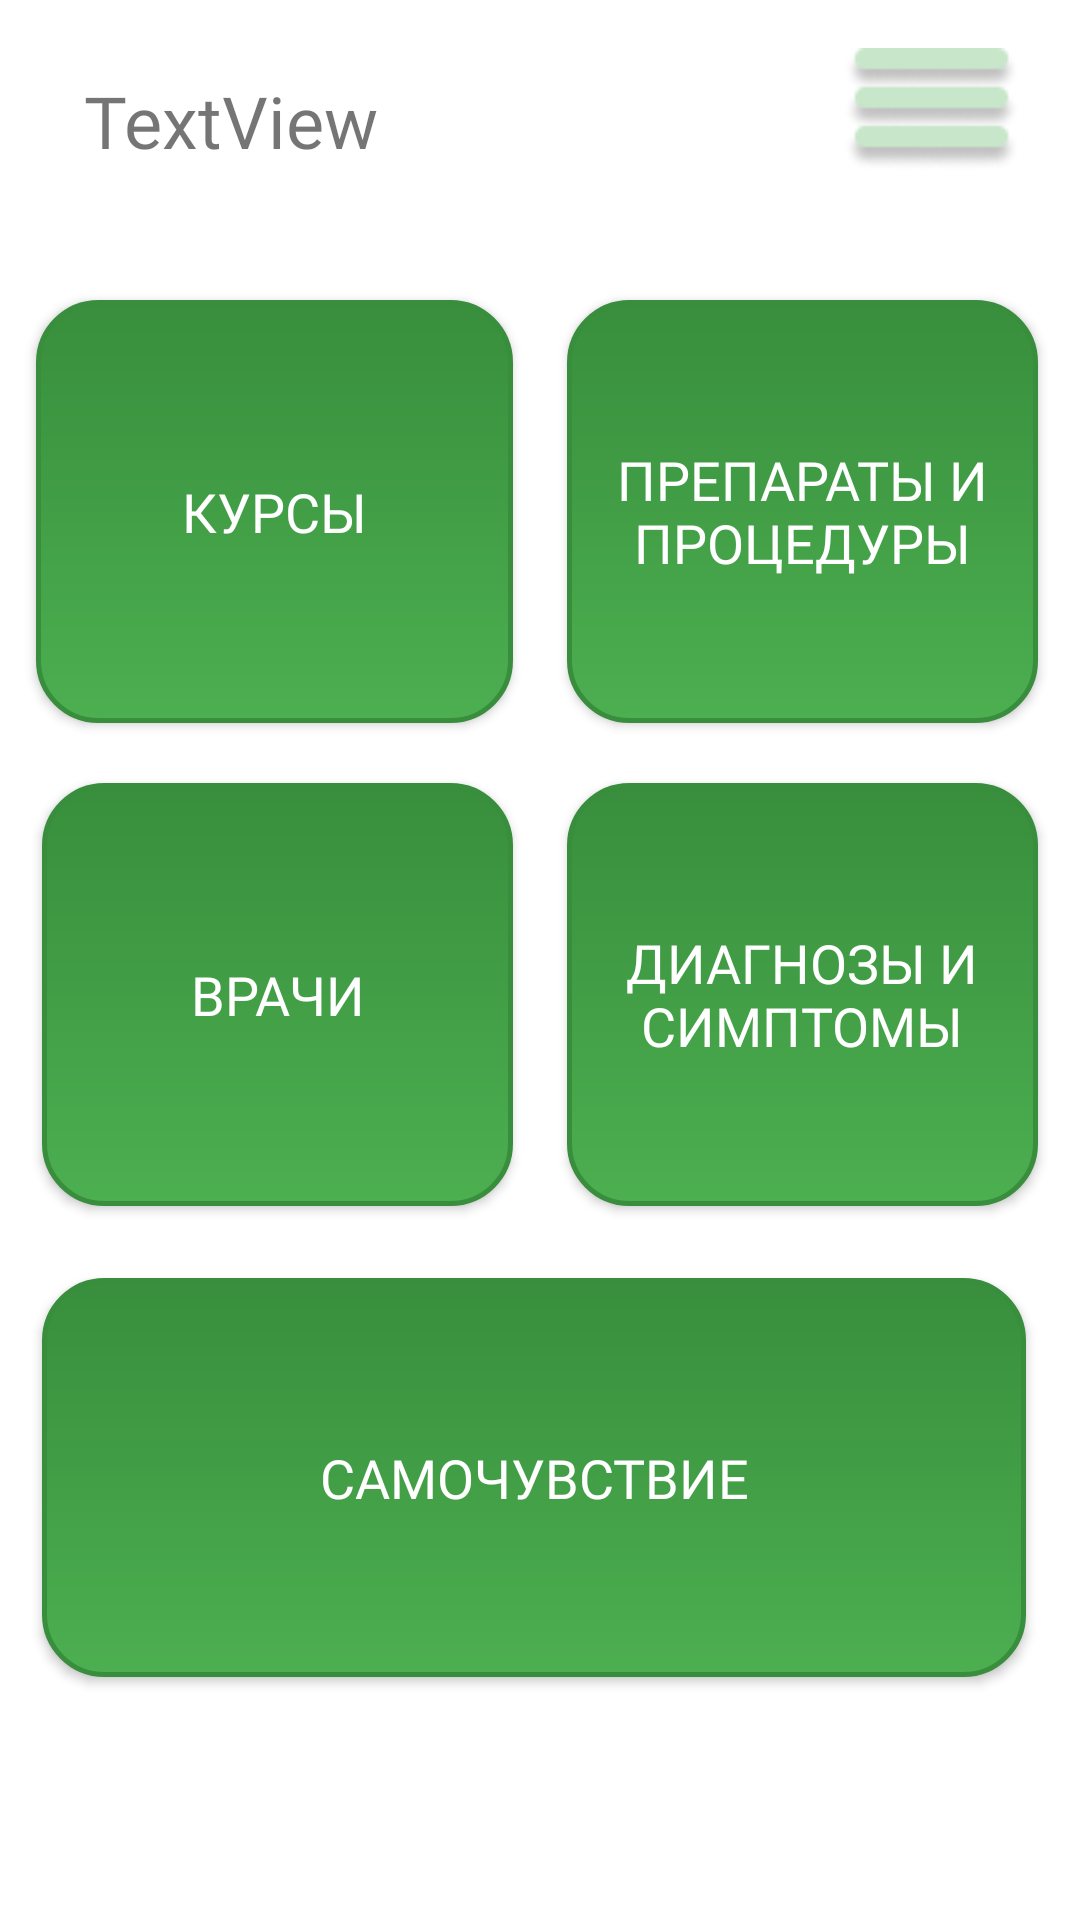

Screen size 1080x1920. Icon name, then its box in pixels as (x1, y1, x2, y2):
options: (854, 48, 1009, 161)
